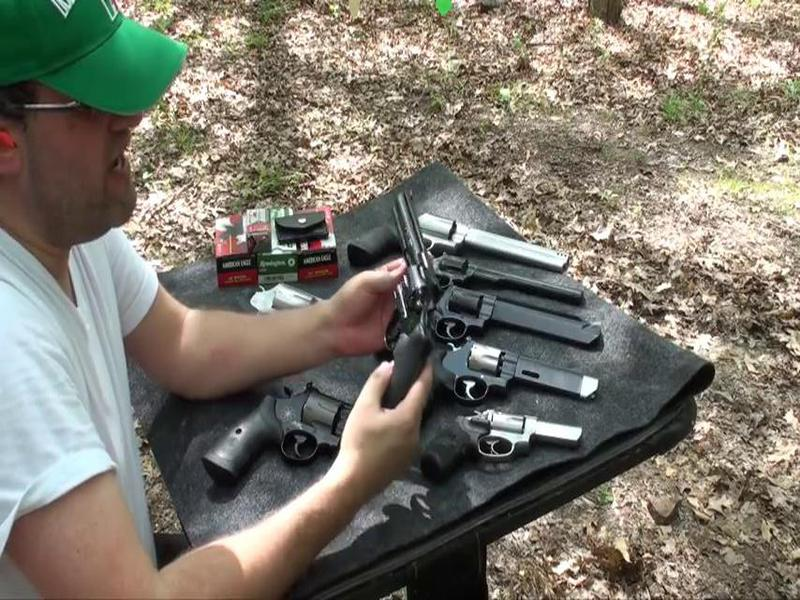Revolver: (357, 196, 476, 414)
